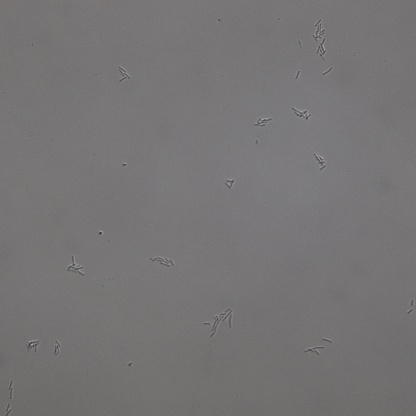R(colony): (202, 307, 233, 338), (66, 256, 85, 276), (312, 18, 327, 42), (313, 151, 327, 171), (147, 256, 174, 266), (317, 38, 329, 60), (25, 338, 41, 354), (293, 106, 311, 120), (116, 66, 131, 82), (254, 115, 272, 127), (304, 347, 323, 355), (52, 341, 62, 355), (224, 179, 235, 190)
